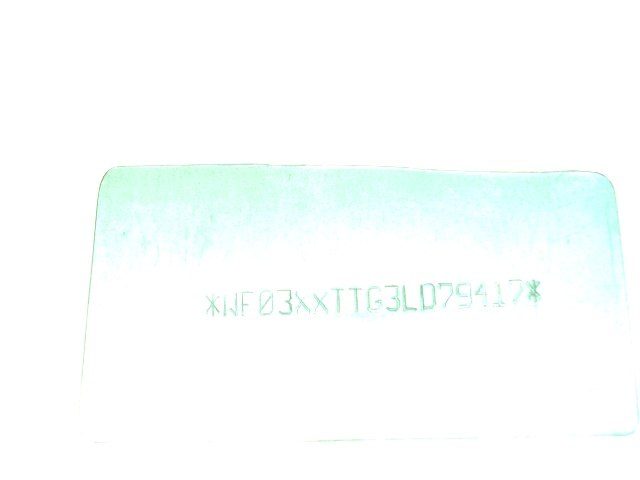0: (256, 287, 275, 317)
1: (491, 278, 509, 311)
3: (275, 287, 294, 317), (385, 283, 402, 314)
4: (474, 280, 491, 311)
7: (508, 277, 525, 312), (438, 280, 455, 311)
9: (456, 281, 475, 310)
d: (420, 282, 438, 312)
f: (239, 289, 254, 318)
g: (366, 284, 384, 315)
l: (401, 283, 418, 313)
t: (330, 285, 347, 316), (348, 285, 365, 316)
w: (221, 290, 239, 317)
x: (294, 287, 312, 316), (311, 289, 330, 316)
